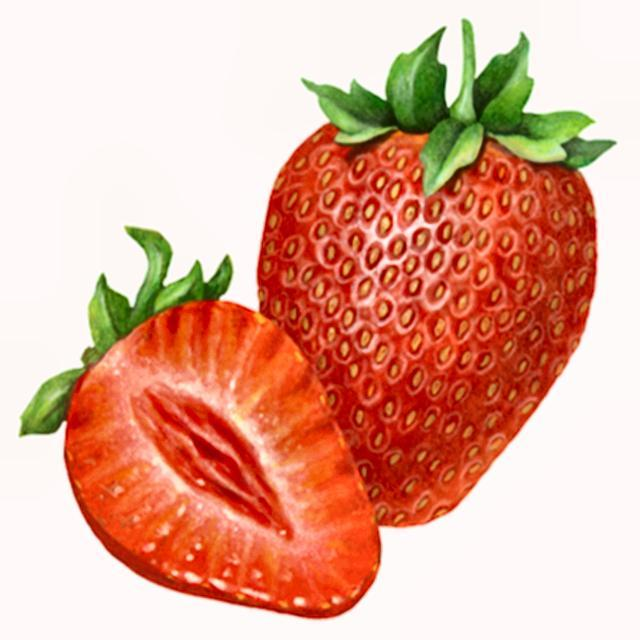strawberry: (258, 20, 614, 525), (21, 226, 380, 617)
